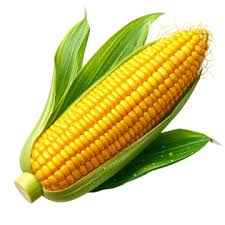milho: (33, 17, 208, 188)
